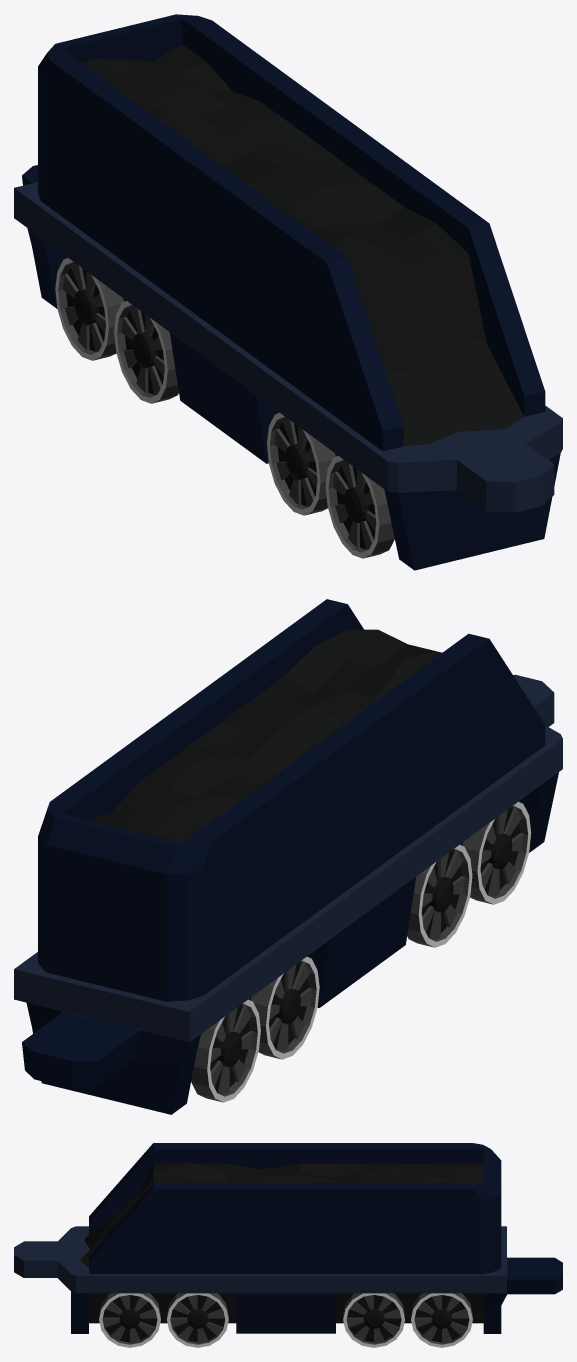
The model's file is CarCoal.fbx.
The picture shows the model from 3 angles, top to bottom: view 1: azimuth 30°, elevation 25°; view 2: azimuth 150°, elevation 25°; view 3: azimuth 270°, elevation 25°; orthographic projection. The views are drawn at different scales.
Parts seen in each view (by area): view 1: Cube.008, Cylinder.013, Cylinder.014, Cylinder.016, Cylinder.015; view 2: Cube.008, Cylinder.016, Cylinder.015, Cylinder.013, Cylinder.014; view 3: Cube.008, Cylinder.014, Cylinder.013, Cylinder.015, Cylinder.016, Cube.010.
Part boxes in pixels (x1,y1,x2,y2): Cube.008: [14, 14, 562, 570]; Cylinder.013: [325, 455, 394, 558]; Cylinder.014: [267, 412, 335, 515]; Cylinder.016: [55, 258, 124, 360]; Cylinder.015: [114, 300, 178, 403]; Cube.008: [14, 599, 562, 1114]; Cylinder.016: [191, 999, 260, 1102]; Cylinder.015: [250, 956, 319, 1059]; Cylinder.013: [462, 801, 531, 904]; Cylinder.014: [407, 845, 472, 947]; Cube.008: [14, 1143, 562, 1333]; Cylinder.014: [166, 1293, 228, 1347]; Cylinder.013: [99, 1293, 160, 1347]; Cylinder.015: [343, 1293, 404, 1347]; Cylinder.016: [411, 1293, 472, 1347]; Cube.010: [89, 1293, 483, 1323].
Bounding box in the file's own units: 207 × 314 × 972.
